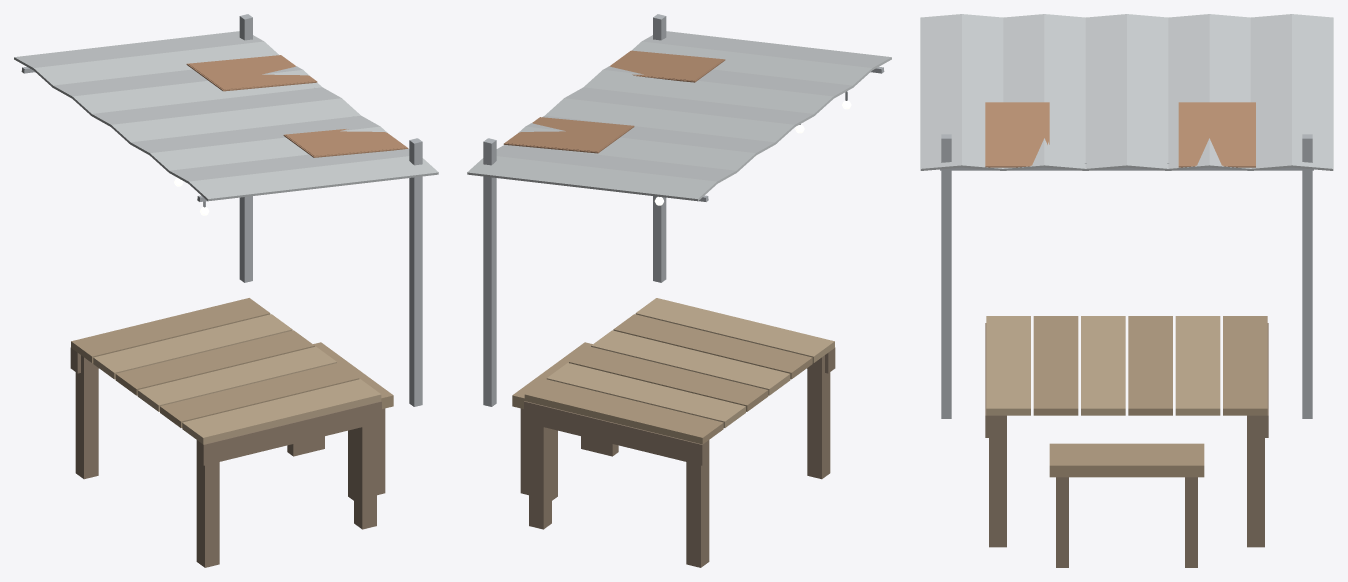
Rendered from trailer_porch.glb.
3 views of the same model, side by side, from view 1: azimuth 30°, elevation 25°; view 2: azimuth 150°, elevation 25°; view 3: azimuth 270°, elevation 25° (orthographic). The views are drawn at different scales.
Visible parts, largest first — view 1: tpc_awning_mesh, tpc_porch_mesh; view 2: tpc_awning_mesh, tpc_porch_mesh; view 3: tpc_awning_mesh, tpc_porch_mesh.
Boxes of the visible parts, box(x1,y1,x2,y2) form: tpc_awning_mesh: box(14, 14, 438, 406); tpc_porch_mesh: box(70, 298, 393, 567); tpc_awning_mesh: box(467, 14, 891, 406); tpc_porch_mesh: box(512, 298, 835, 567); tpc_awning_mesh: box(920, 14, 1333, 418); tpc_porch_mesh: box(985, 316, 1268, 567).
Size of the model in its own units: 2.35 by 3.67 by 3.2.
